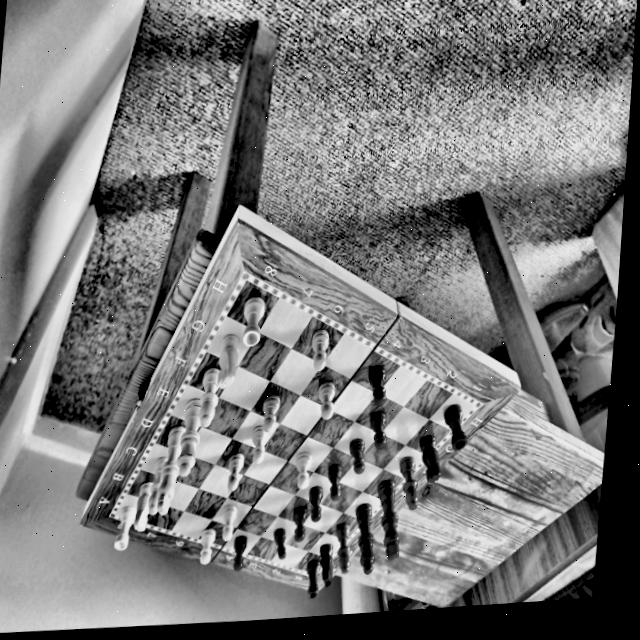black-bishop: (392, 453, 421, 509), (330, 523, 353, 573)
black-king: (369, 475, 403, 561)
black-knight: (414, 433, 443, 483), (314, 538, 336, 587)
black-pawn: (363, 364, 388, 406), (366, 411, 388, 448), (323, 461, 343, 501), (344, 437, 366, 473), (287, 506, 307, 543), (267, 526, 288, 561), (304, 485, 323, 522), (228, 534, 246, 572)
black-queen: (346, 501, 379, 575)
black-rook: (438, 400, 472, 450), (301, 558, 320, 599)
white-bishop: (195, 368, 218, 426), (146, 452, 164, 515)
white-king: (157, 426, 179, 514)
white-knight: (214, 331, 238, 388), (129, 479, 151, 532)
white-pawn: (304, 324, 330, 372), (310, 377, 338, 421), (194, 525, 215, 566), (258, 393, 279, 433), (224, 450, 243, 492), (289, 451, 310, 488), (217, 502, 236, 542), (248, 425, 265, 462)
white-queen: (174, 397, 202, 477)
white-rook: (237, 292, 265, 348), (110, 503, 132, 551)
